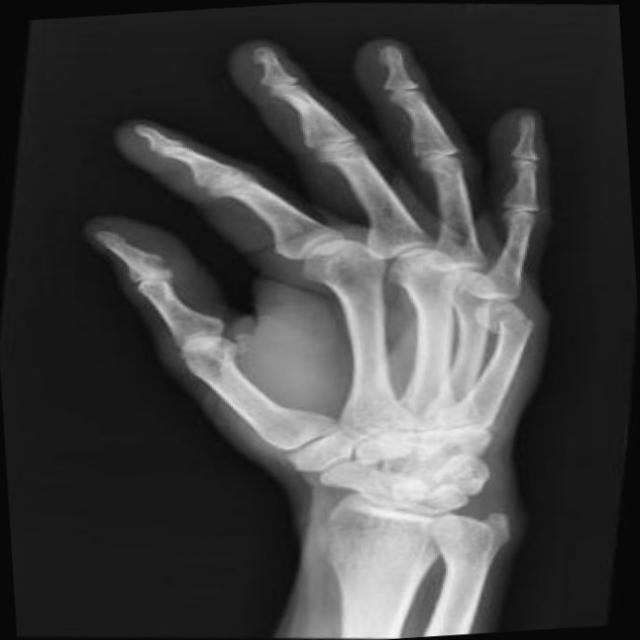Transverse Displaced: (475, 274, 555, 352)
